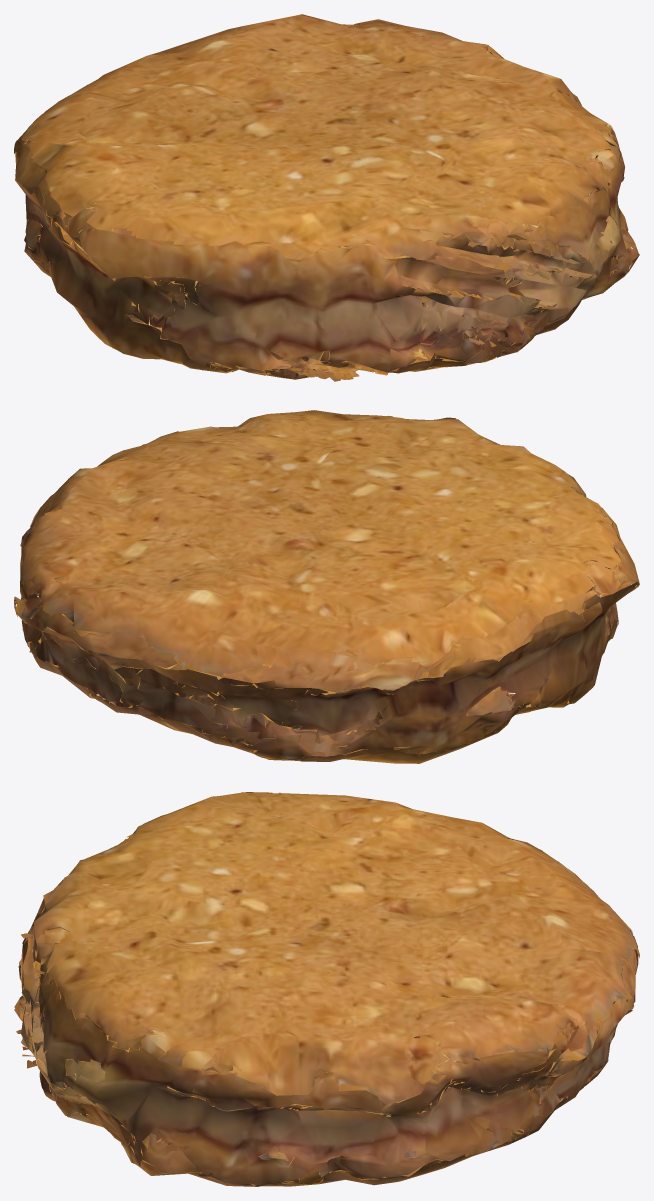
The model's file is dessert1.gltf.
The picture shows the model from 3 angles, top to bottom: view 1: azimuth 30°, elevation 25°; view 2: azimuth 150°, elevation 25°; view 3: azimuth 270°, elevation 25°; orthographic projection. The views are drawn at different scales.
Visible parts, largest first — view 1: model_New Qlone_20221213_201721331; view 2: model_New Qlone_20221213_201721331; view 3: model_New Qlone_20221213_201721331.
Boxes of the visible parts, <box> form: model_New Qlone_20221213_201721331: <box>14,14,639,381</box>; model_New Qlone_20221213_201721331: <box>14,410,639,763</box>; model_New Qlone_20221213_201721331: <box>14,792,639,1186</box>.
Size of the model in its own units: 7.42 by 1.99 by 7.14.
Materials: 1 (1 with a texture image).
